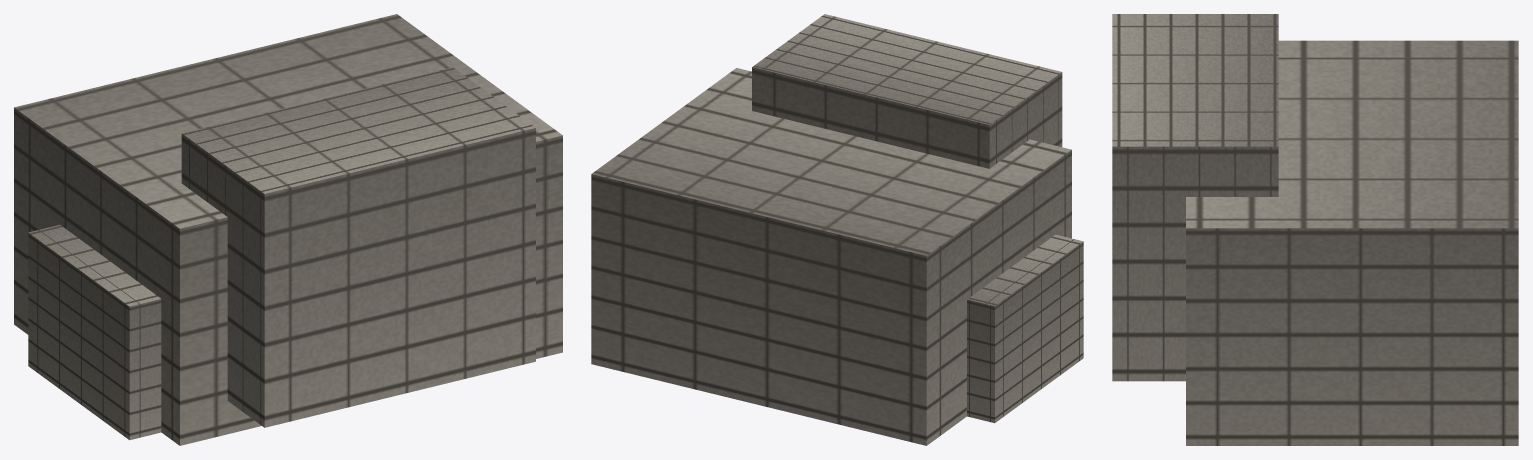
The model's file is rock_boulder.gltf.
The picture shows the model from 3 angles, left to right: view 1: azimuth 30°, elevation 25°; view 2: azimuth 150°, elevation 25°; view 3: azimuth 270°, elevation 25°; orthographic projection. The views are drawn at different scales.
Visible parts, largest first — view 1: rock_boulder; view 2: rock_boulder; view 3: rock_boulder.
Boxes of the visible parts, left/top/right/bottom form: rock_boulder: left=14, top=14, right=562, bottom=445; rock_boulder: left=591, top=14, right=1083, bottom=445; rock_boulder: left=1112, top=14, right=1518, bottom=445.
Size of the model in its own units: 2.6 by 1.6 by 2.2.
1 material, 1 textured.
